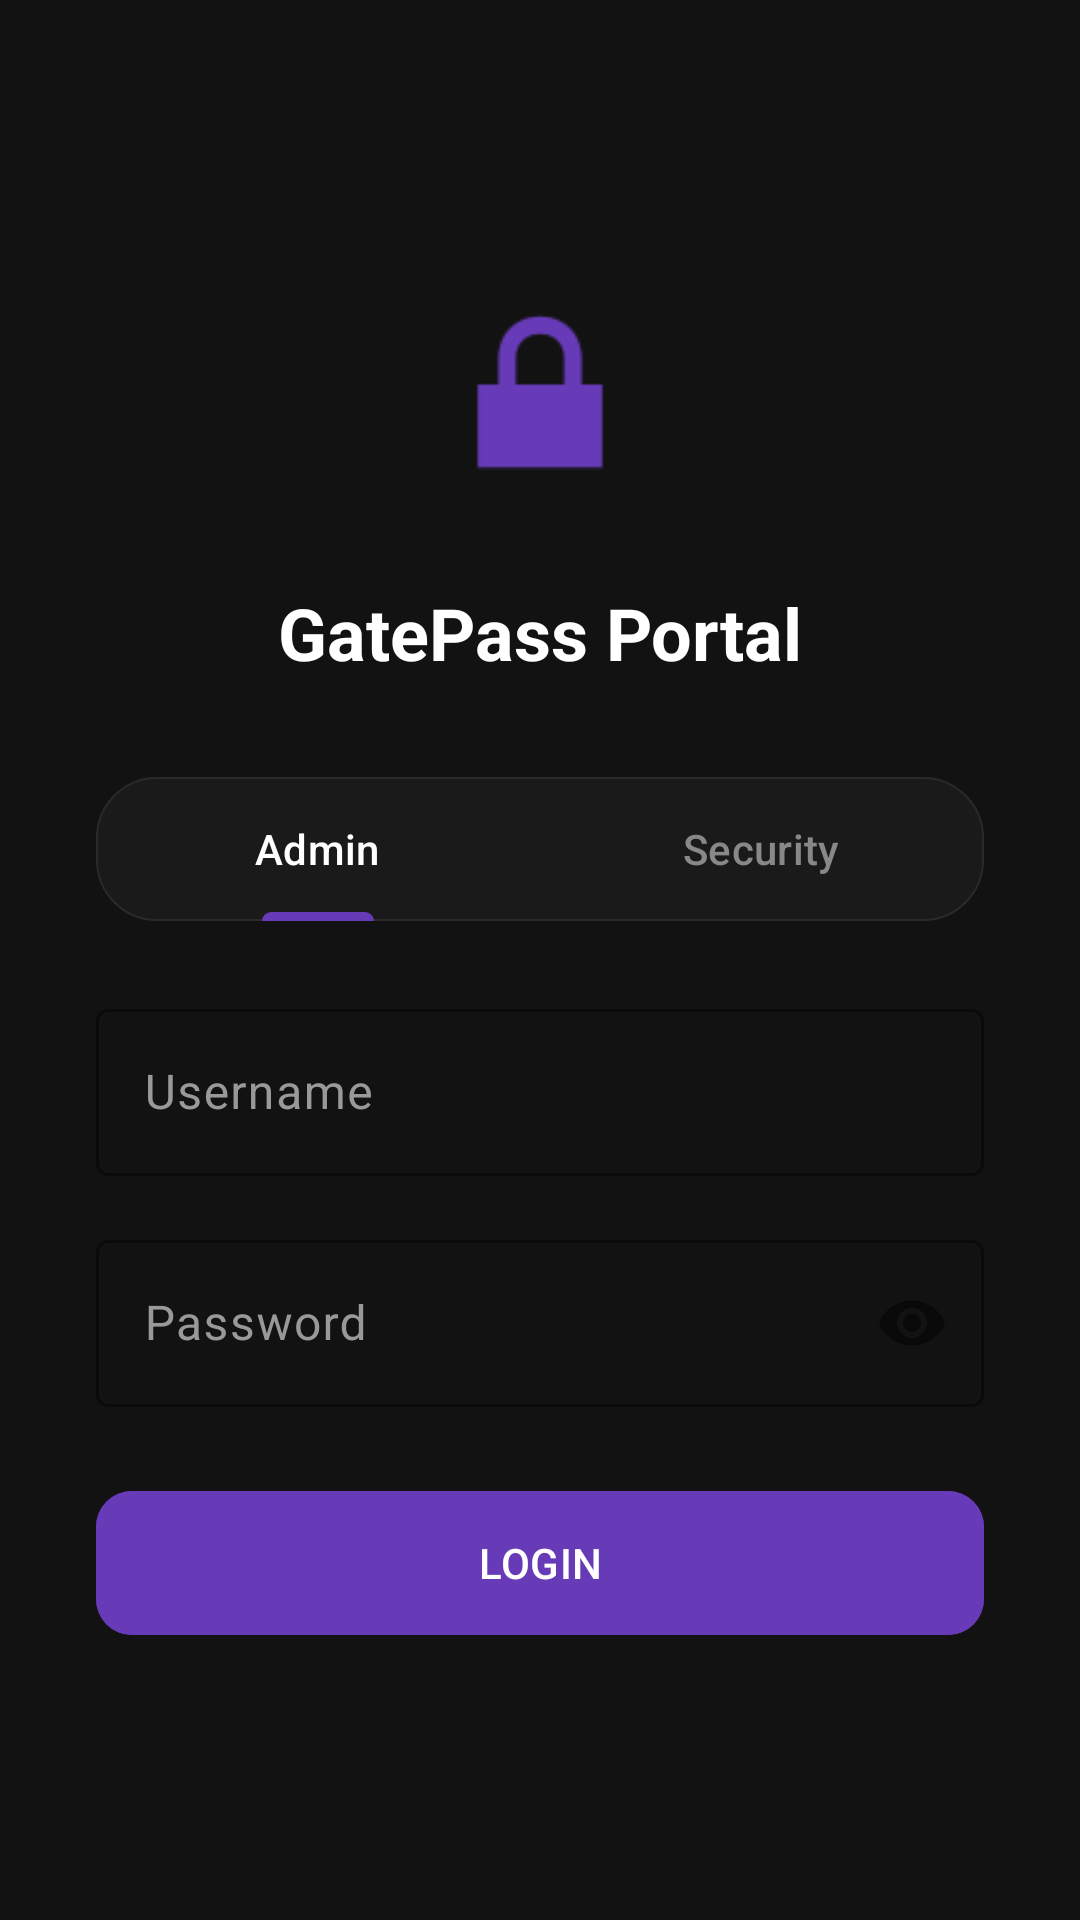

Icon bounding boxes for this 1080x1920 phone screenshot, format (x1, y1, x2, y2):
Login Icon: (477, 315, 603, 469)
